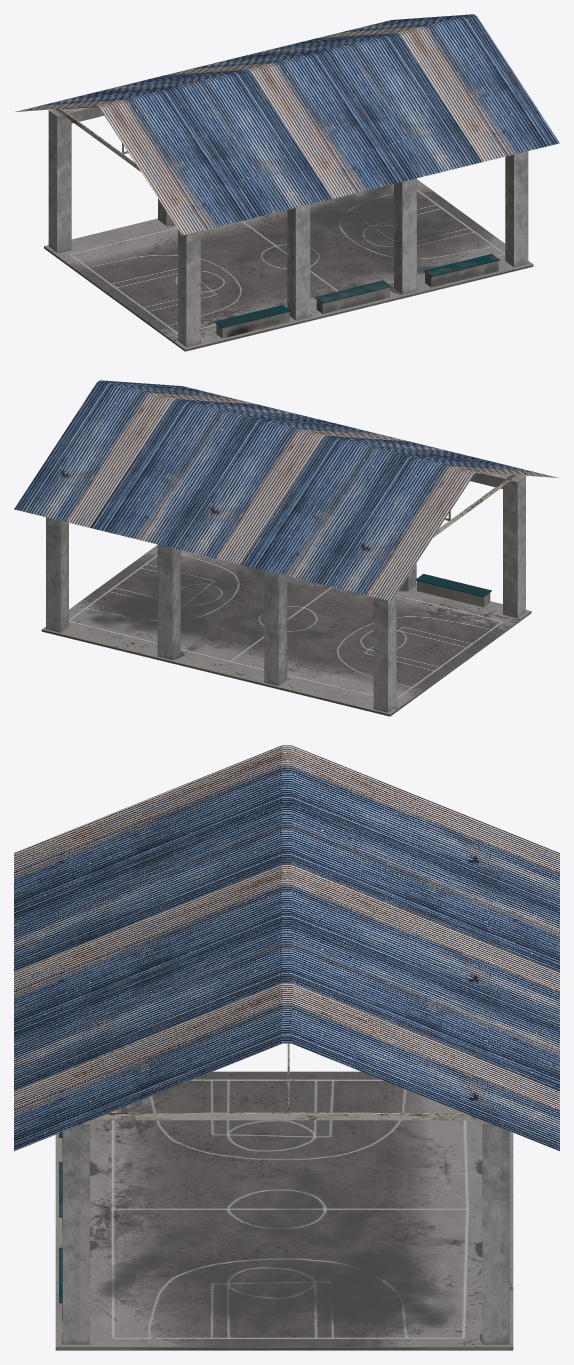
The model's file is Covered Court.glb.
3 renders of one model, top to bottom at view 1: azimuth 30°, elevation 25°; view 2: azimuth 150°, elevation 25°; view 3: azimuth 270°, elevation 25°, orthographic. The views are drawn at different scales.
Parts seen in each view (by area): view 1: Cube, Cube.020, Cube.001, Pillars, Cube.002, Cube.023, Cube.022, Cube.024, STeel; view 2: Cube, Cube.001, Cube.020, Pillars, Cube.002, Cube.022, STeel; view 3: Cube, Cube.020, Cube.001, Cube.002, Pillars, STeel.
Part boxes in pixels (x1,y1,x2,y2): Cube: (44, 179, 533, 351); Cube.020: (15, 69, 332, 235); Cube.001: (166, 33, 482, 198); Pillars: (48, 107, 528, 346); Cube.002: (316, 14, 559, 161); Cube.023: (315, 280, 391, 313); Cube.022: (214, 305, 291, 338); Cube.024: (423, 254, 500, 287); STeel: (55, 106, 140, 171); Cube: (41, 545, 531, 716); Cube.001: (90, 399, 407, 564); Cube.020: (241, 435, 558, 601); Pillars: (46, 473, 525, 712); Cube.002: (14, 380, 257, 527); Cube.022: (415, 574, 491, 607); STeel: (433, 472, 518, 537); Cube: (55, 1071, 513, 1350); Cube.020: (14, 745, 559, 971); Cube.001: (14, 864, 559, 1090); Cube.002: (14, 982, 559, 1151); Pillars: (62, 1120, 509, 1344); STeel: (92, 1043, 481, 1120).
Size of the model in its own units: 70.14 by 34.79 by 54.22.
7 materials, 7 textured.
